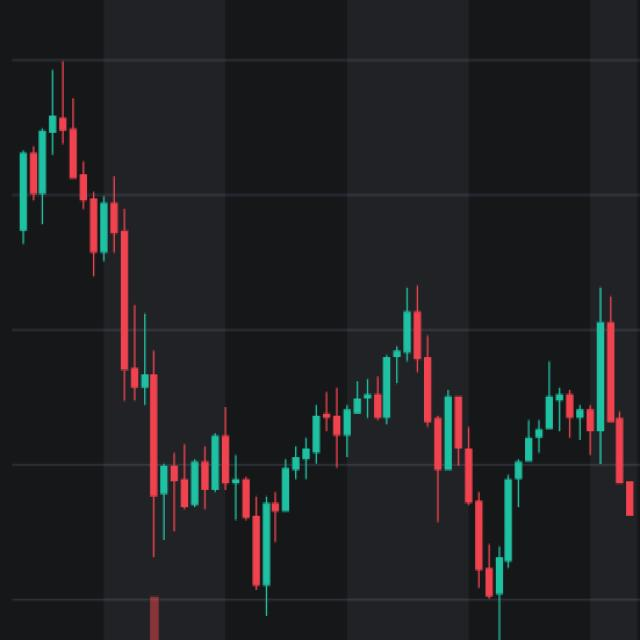Resistance-Emerging: (172, 297, 634, 598)
